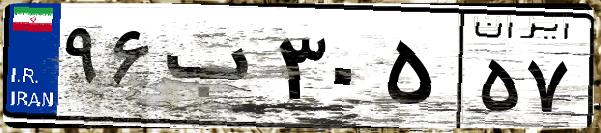0: (330, 28, 385, 110)
3: (270, 28, 330, 110)
5: (385, 28, 445, 110), (475, 38, 525, 113)
6: (110, 28, 158, 98)
7: (525, 38, 570, 115)
9: (57, 26, 110, 100)
ب: (158, 20, 270, 120)
